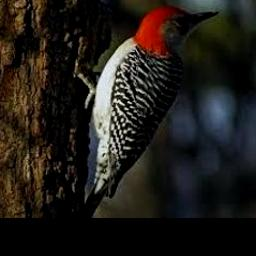Woodpecker: (79, 5, 219, 218)
